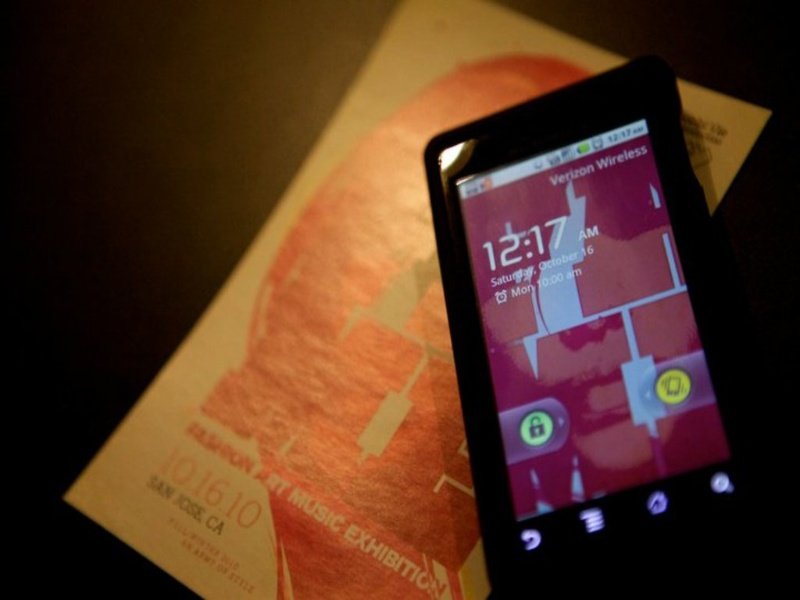Mobile Phone: (408, 65, 781, 600)
